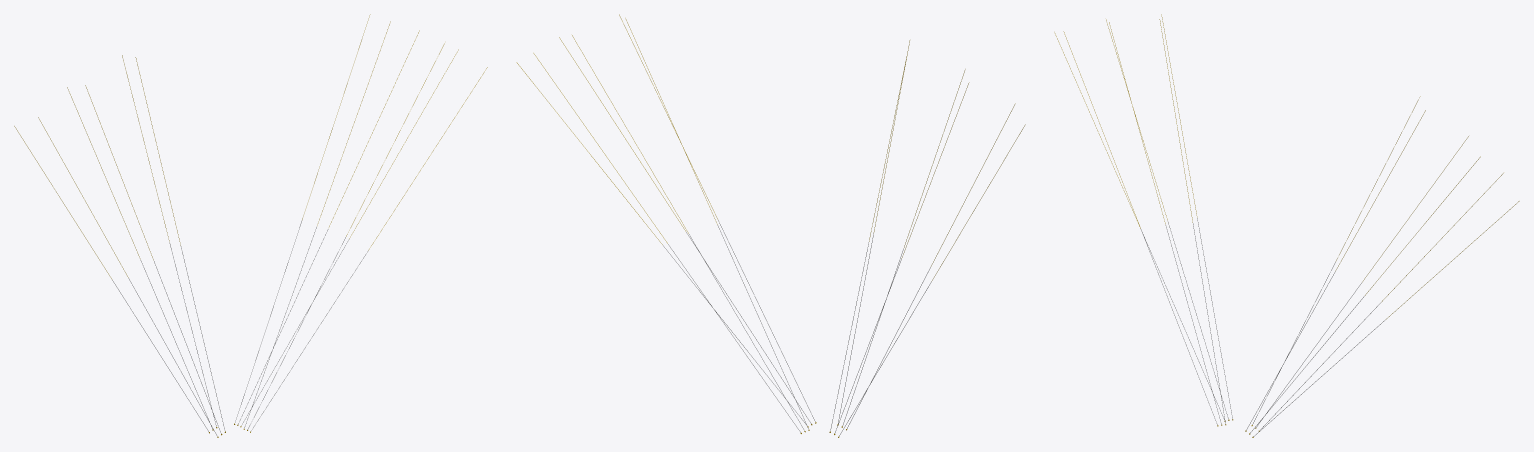
The model's file is Halterung8.fbx.
3 views of the same model, side by side, from view 1: azimuth 30°, elevation 25°; view 2: azimuth 150°, elevation 25°; view 3: azimuth 330°, elevation 25° (orthographic). The views are drawn at different scales.
Visible parts, largest first — view 1: LoopingHalterung2; view 2: LoopingHalterung2; view 3: LoopingHalterung2.
Part boxes in pixels (x1=…): LoopingHalterung2: x1=14, y1=14, x2=487, y2=437; LoopingHalterung2: x1=516, y1=14, x2=1025, y2=437; LoopingHalterung2: x1=1054, y1=14, x2=1519, y2=437.
Bounding box in the file's own units: 156254 × 124135 × 15661.
